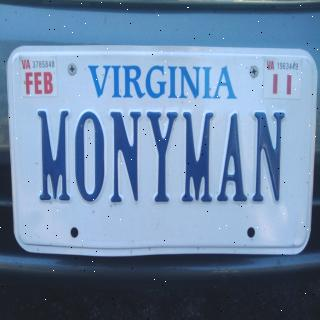license: (9, 44, 316, 256)
